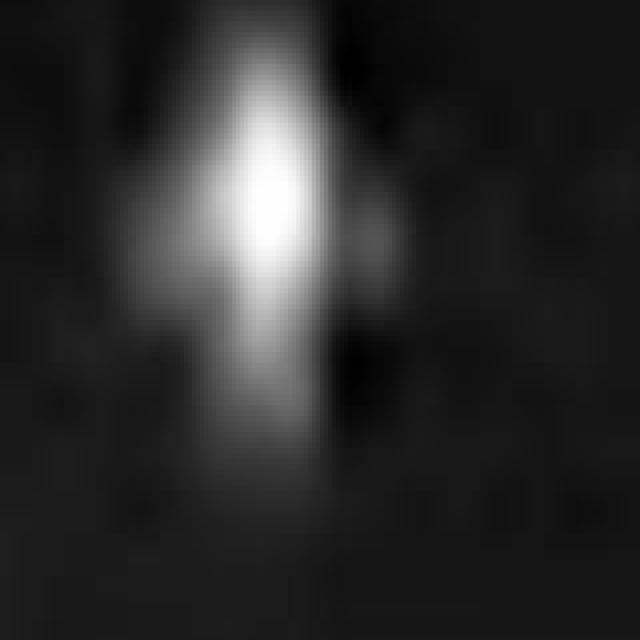person: (145, 1, 373, 449)
